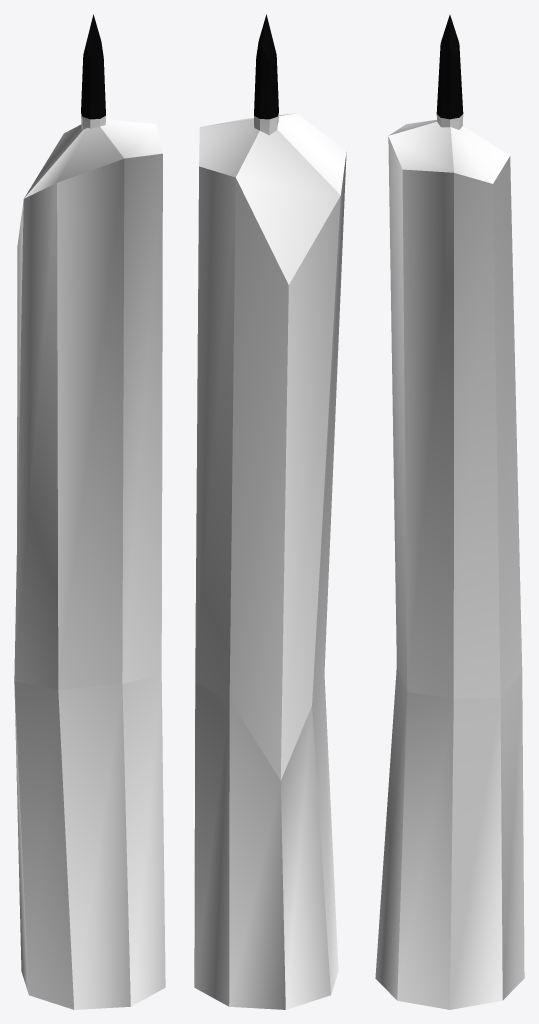
File: Candle.fbx
The picture shows the model from 3 angles, left to right: view 1: azimuth 30°, elevation 25°; view 2: azimuth 150°, elevation 25°; view 3: azimuth 270°, elevation 25°; orthographic projection.
Parts seen in each view (by area): view 1: Candle; view 2: Candle; view 3: Candle.
Part boxes in pixels (x1=…): Candle: x1=14, y1=14, x2=165, y2=1009; Candle: x1=194, y1=14, x2=346, y2=1009; Candle: x1=375, y1=15, x2=524, y2=1009.
Size of the model in its own units: 5.08 by 34.24 by 4.8.
